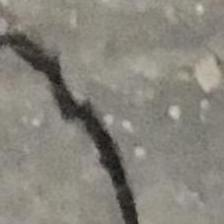Crack: (0, 10, 222, 224)
